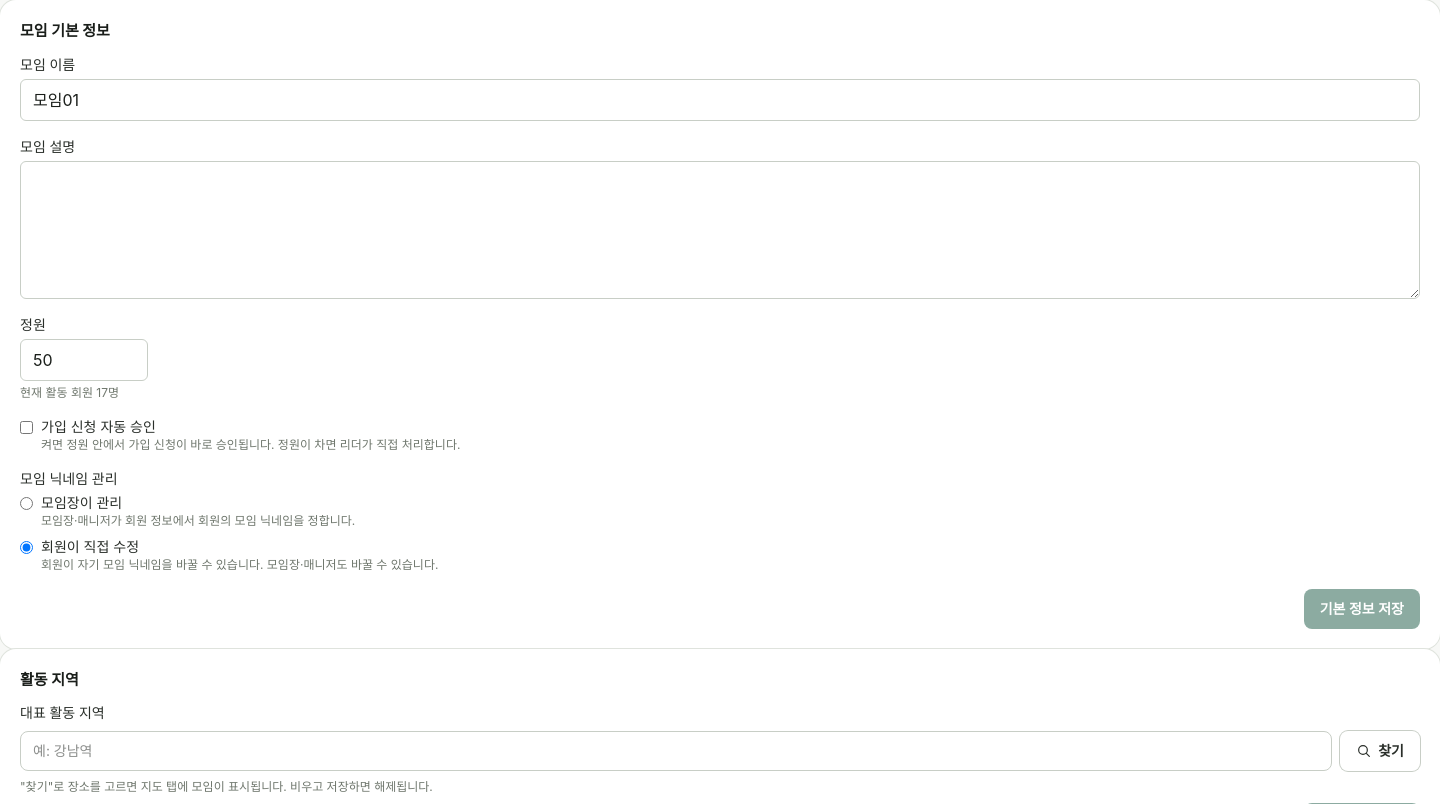
Test case: GroupSettingsSection › 기본 정보를 저장한다
The width and height of the screenshot is (1440, 804).
Replace the text in the field labelled "모임 이름" with "독서 모임": (720, 100) [20,78,1420,120]
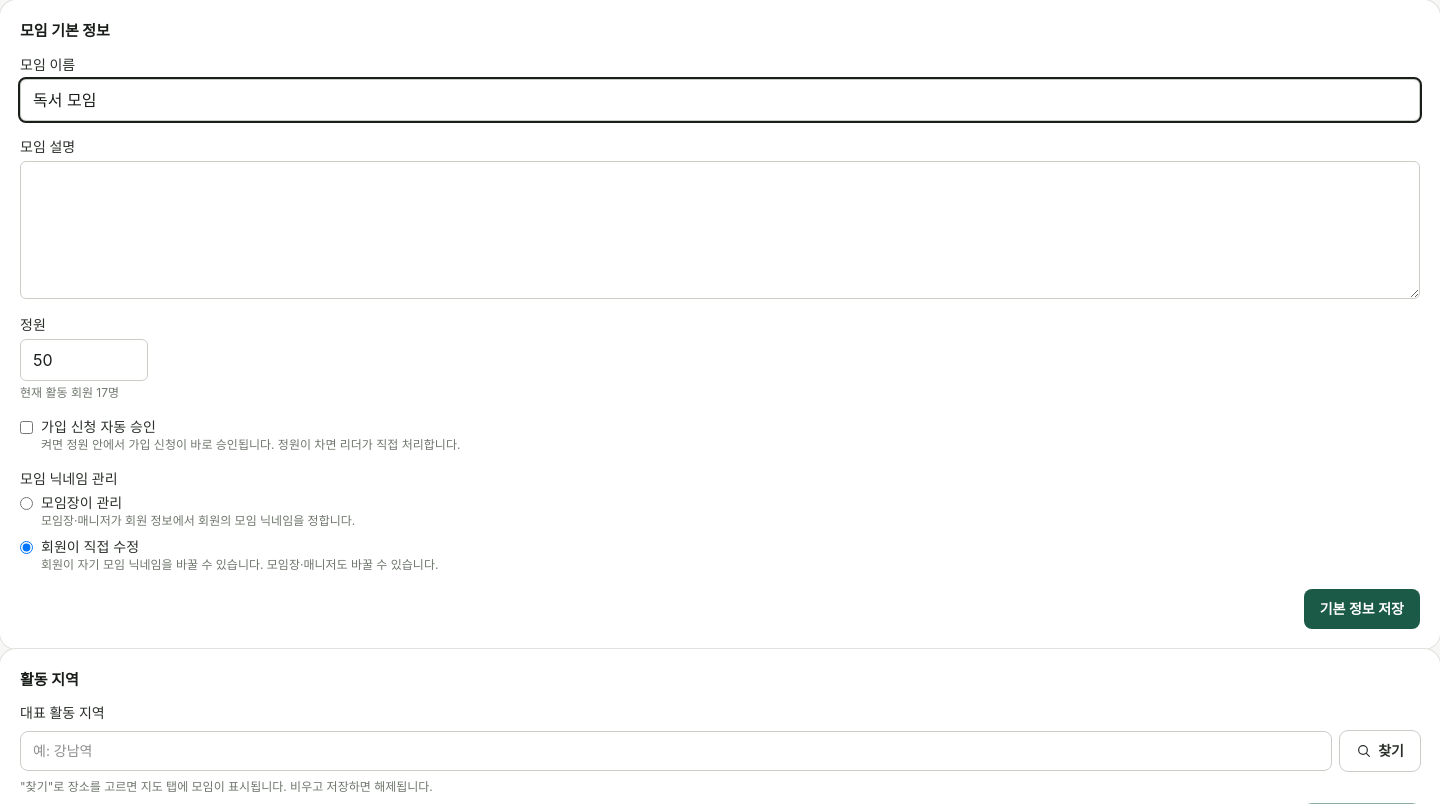
Click the checkbox labelled "가입 신청 자동 승인 켜면 정원 안에서 가입 신청이 바로 승인됩니다. 정원이 차면 리더가 직접 처리합니다.": (26, 427) [20,420,33,434]
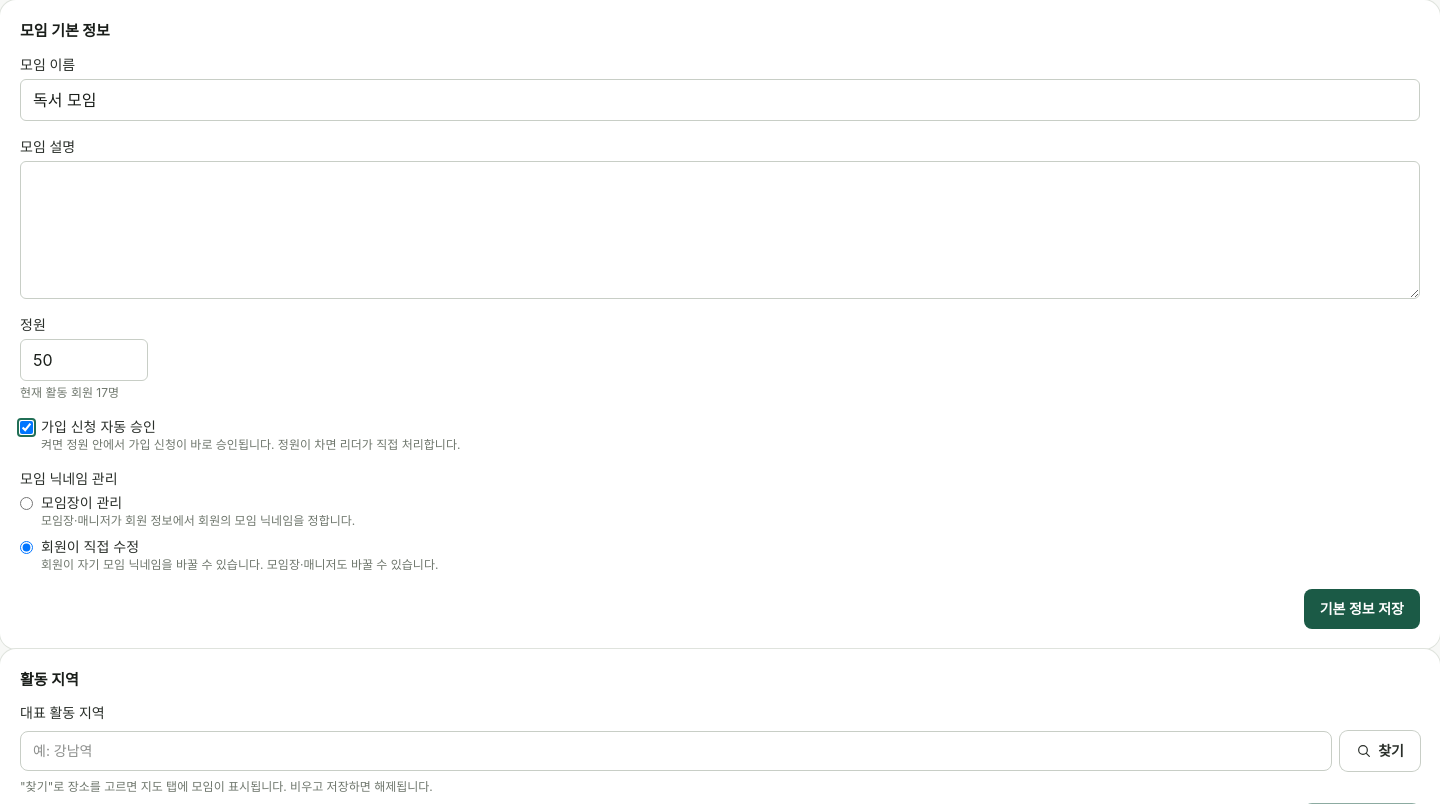
Click the button "기본 정보 저장": (1362, 608) [1304,588,1420,628]
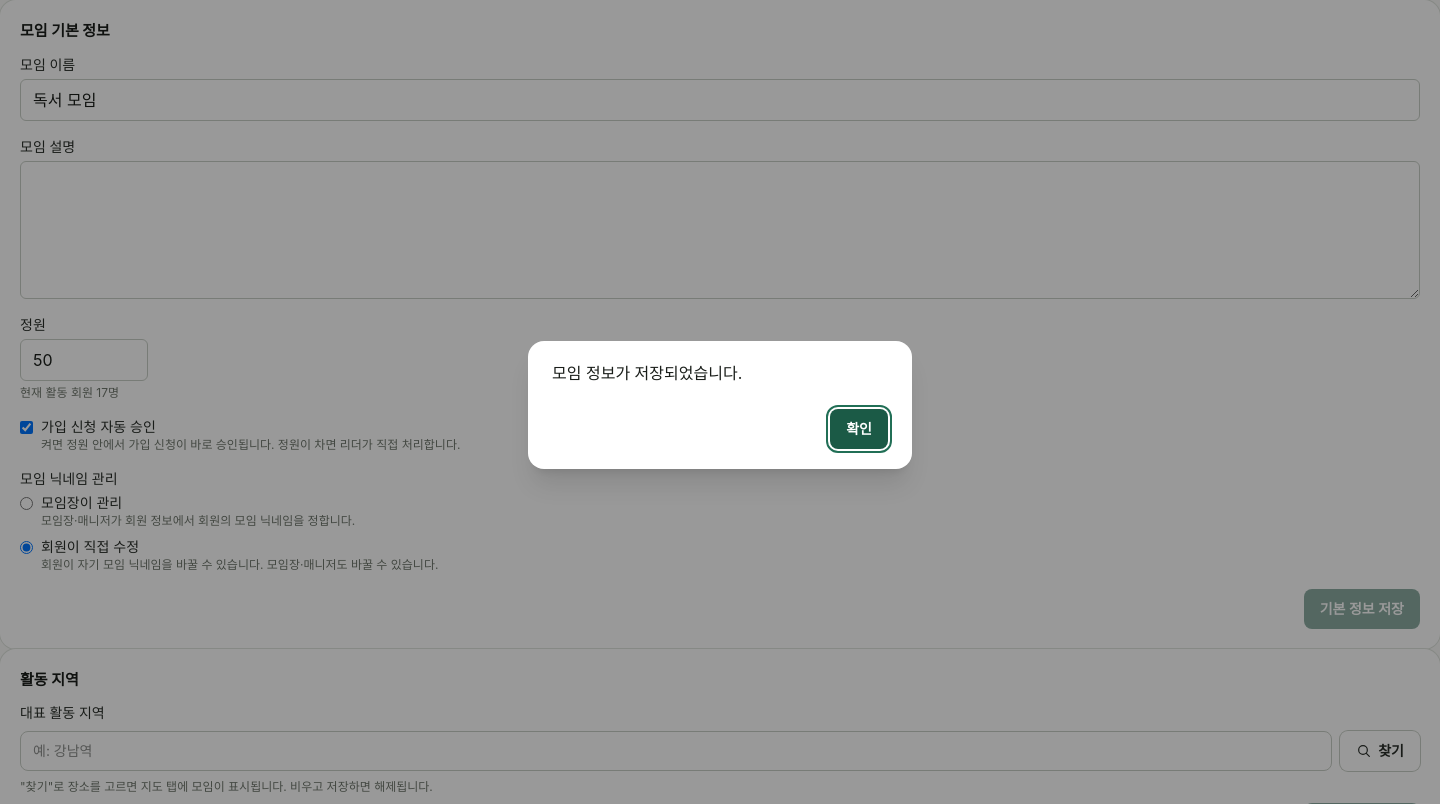
Check: the dialog is shown, box [528,341,912,469]
